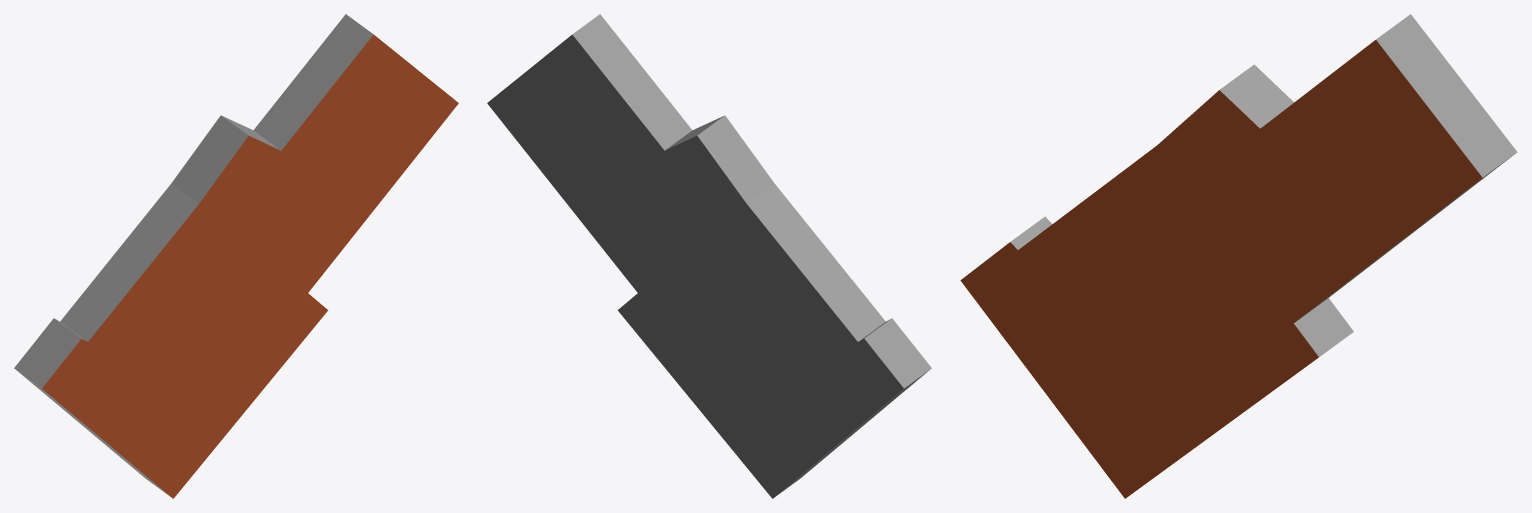
Rendered from construction_3873_assumed_A_Casa_h6m.obj.
The picture shows the model from 3 angles, left to right: view 1: azimuth 30°, elevation 25°; view 2: azimuth 150°, elevation 25°; view 3: azimuth 330°, elevation 25°; orthographic projection. The views are drawn at different scales.
Visible parts, largest first — view 1: construction_3873_assumed_A_Casa; view 2: construction_3873_assumed_A_Casa; view 3: construction_3873_assumed_A_Casa.
Boxes of the visible parts, left/top/right/bottom form: construction_3873_assumed_A_Casa: left=14, top=14, right=458, bottom=498; construction_3873_assumed_A_Casa: left=487, top=14, right=931, bottom=498; construction_3873_assumed_A_Casa: left=960, top=14, right=1517, bottom=498.
Size of the model in its own units: 51.8 by 49.34 by 6.
